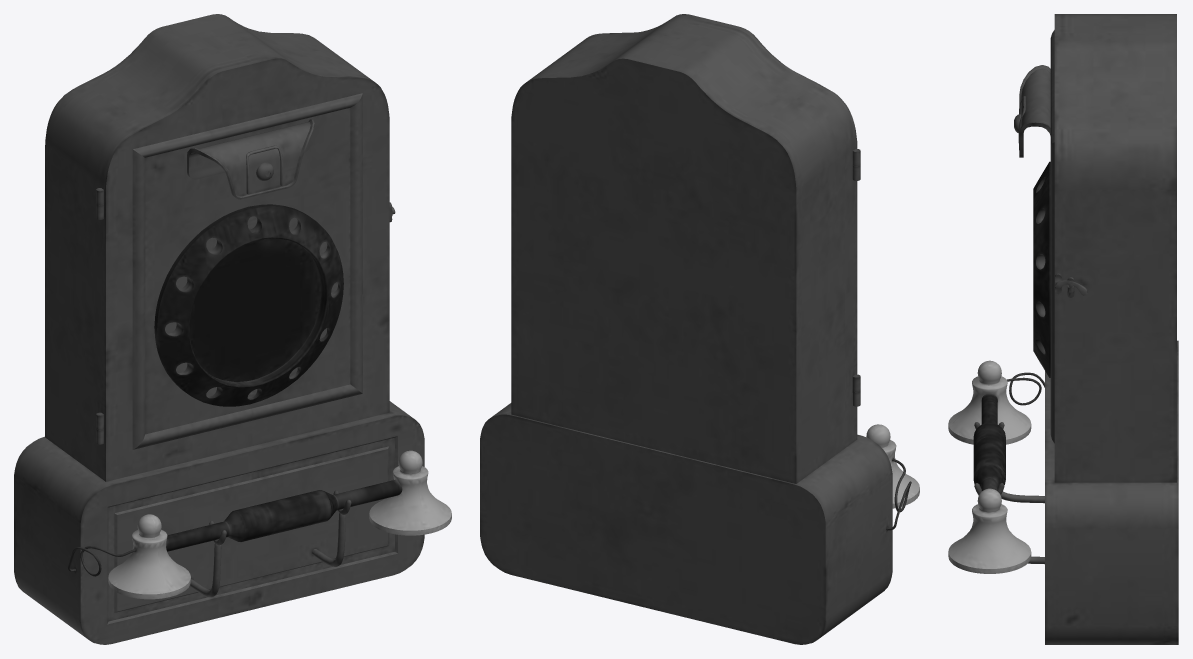
Rendered from phone.glb.
3 views of the same model, side by side, from view 1: azimuth 30°, elevation 25°; view 2: azimuth 150°, elevation 25°; view 3: azimuth 270°, elevation 25° (orthographic).
Visible parts, largest first — view 1: vintage_telephone_wall_clock; view 2: vintage_telephone_wall_clock; view 3: vintage_telephone_wall_clock.
Boxes of the visible parts, x1,y1,x2,y2 form: vintage_telephone_wall_clock: [14, 14, 451, 644]; vintage_telephone_wall_clock: [480, 14, 919, 644]; vintage_telephone_wall_clock: [948, 14, 1178, 644].
Size of the model in its own units: 0.3428 by 0.5012 by 0.1926.
Materials: 2 (2 with a texture image).
